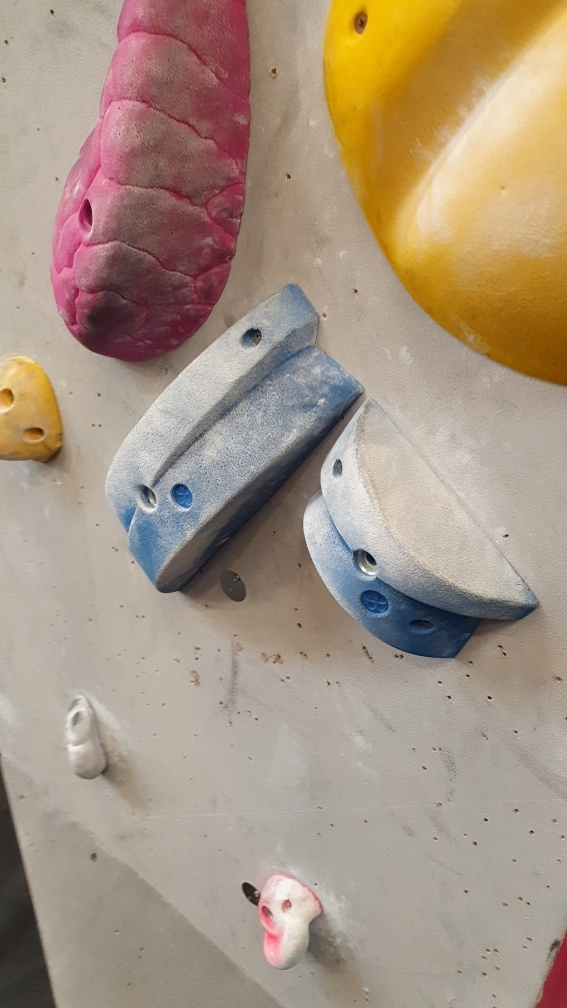Hand Start: (216, 565, 248, 605), (241, 881, 263, 910)
Jug: (256, 874, 328, 975)
Pinch: (107, 282, 367, 591), (299, 400, 540, 662)
